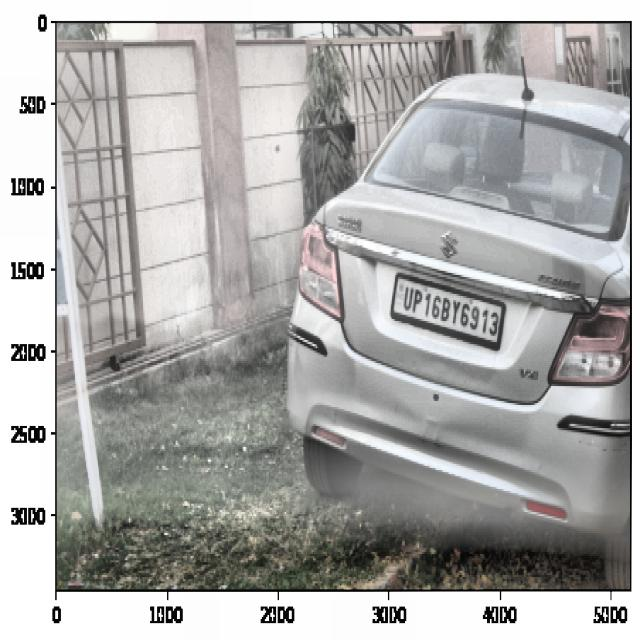license_plate: (398, 282, 502, 349)
